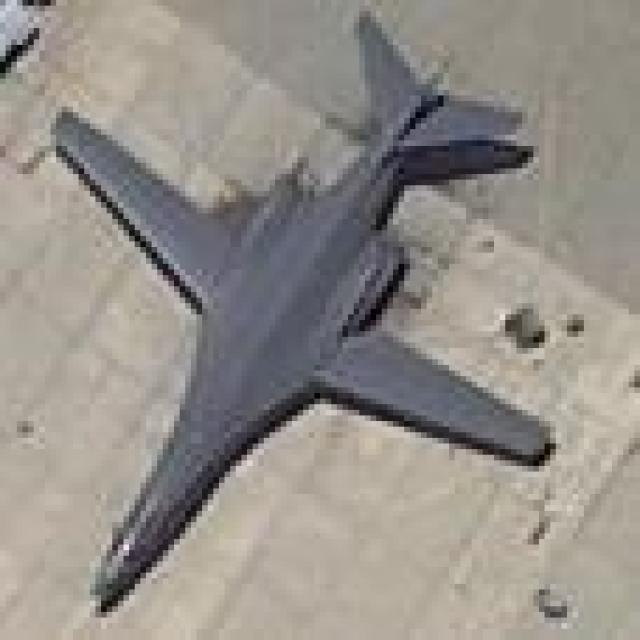B-1_TopDown: (43, 4, 562, 624)
